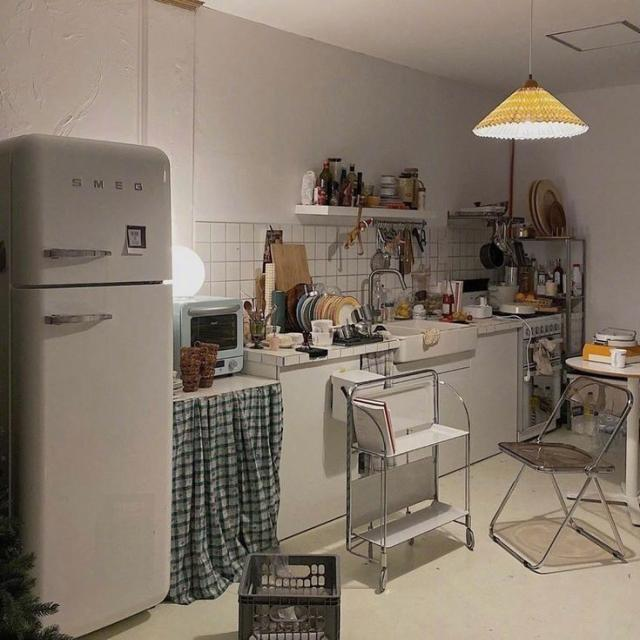obstacle: (0, 132, 174, 638), (488, 373, 634, 573), (564, 354, 640, 526)
